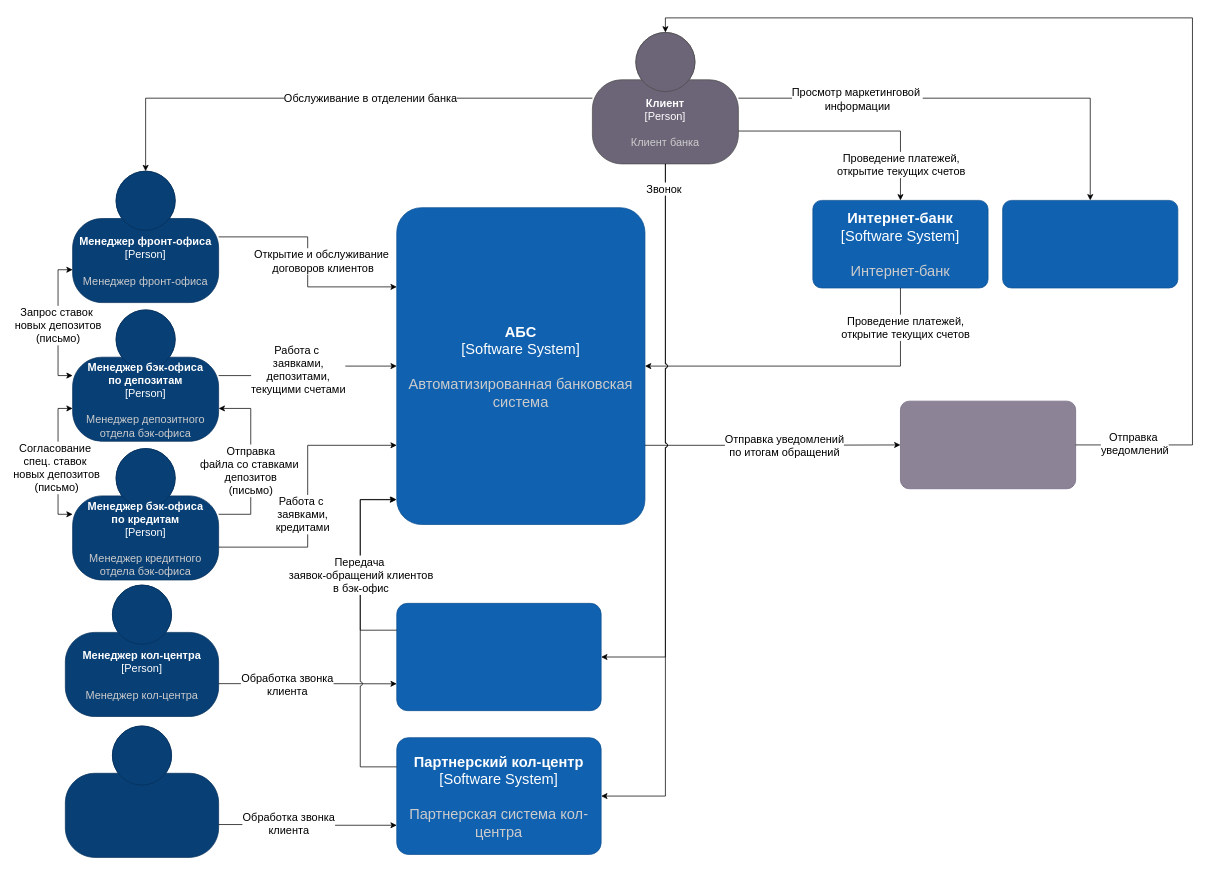
The diagram is 1211 pixels wide and 870 high, and some of its shapes have lost their labels. Each missing label, with the centre of its shape:
Кол-центр [Software System] Система кол-центра: the point at 498,657
Менеджер партнерского кол-центра [Person] Менеджер партнерского кол-центра: the point at 142,791
Сайт [Software System] Сайт банка: the point at 1090,244
СМС-шлюз [Software System] СМС-шлюз телеком-оператора: the point at 988,444
